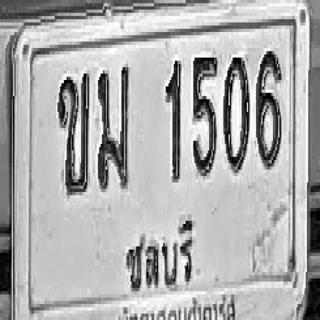A02: (57, 72, 90, 194)
A33: (97, 66, 129, 190)
N00: (223, 54, 249, 173)
N01: (164, 58, 182, 182)
N05: (192, 54, 217, 176)
N06: (256, 50, 282, 168)
P13: (114, 217, 205, 289)
